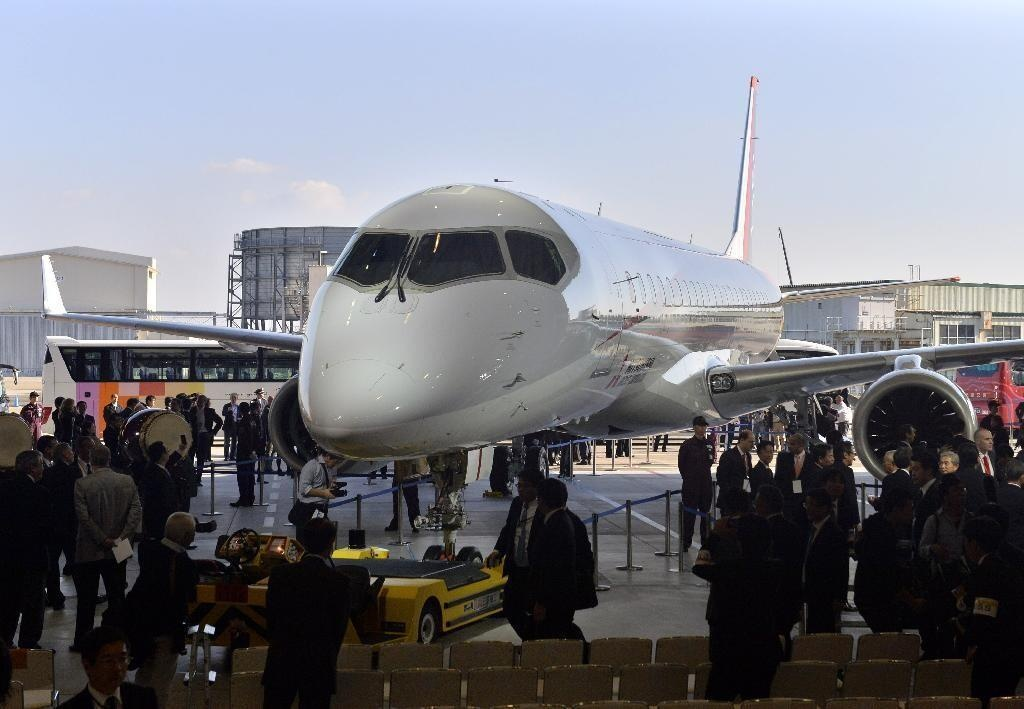airplane: (31, 63, 1024, 484)
